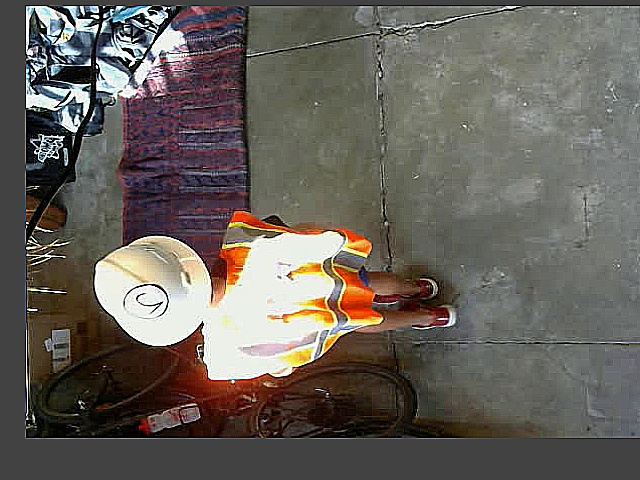two: (121, 284, 167, 320)
